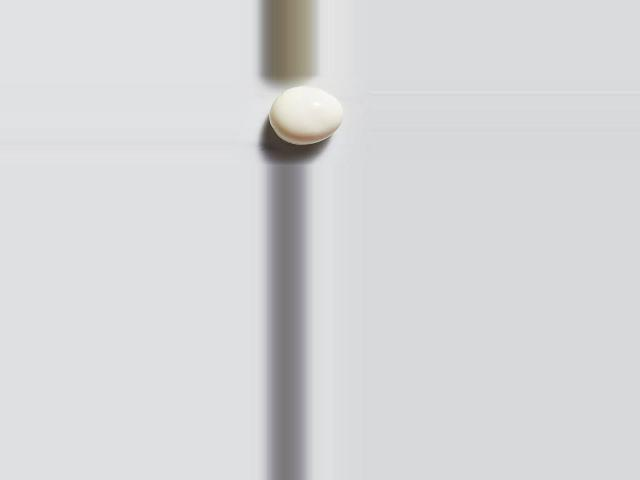egg: (268, 86, 342, 145)
